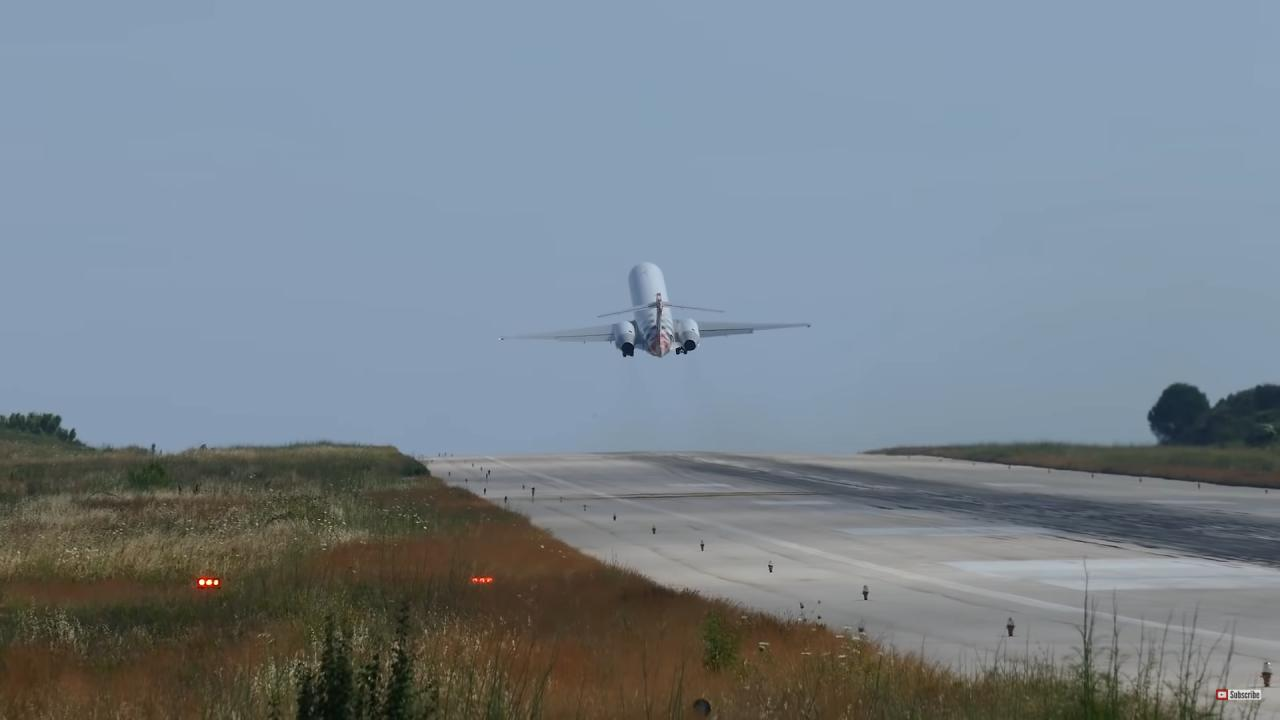Airplane: (480, 246, 824, 370)
